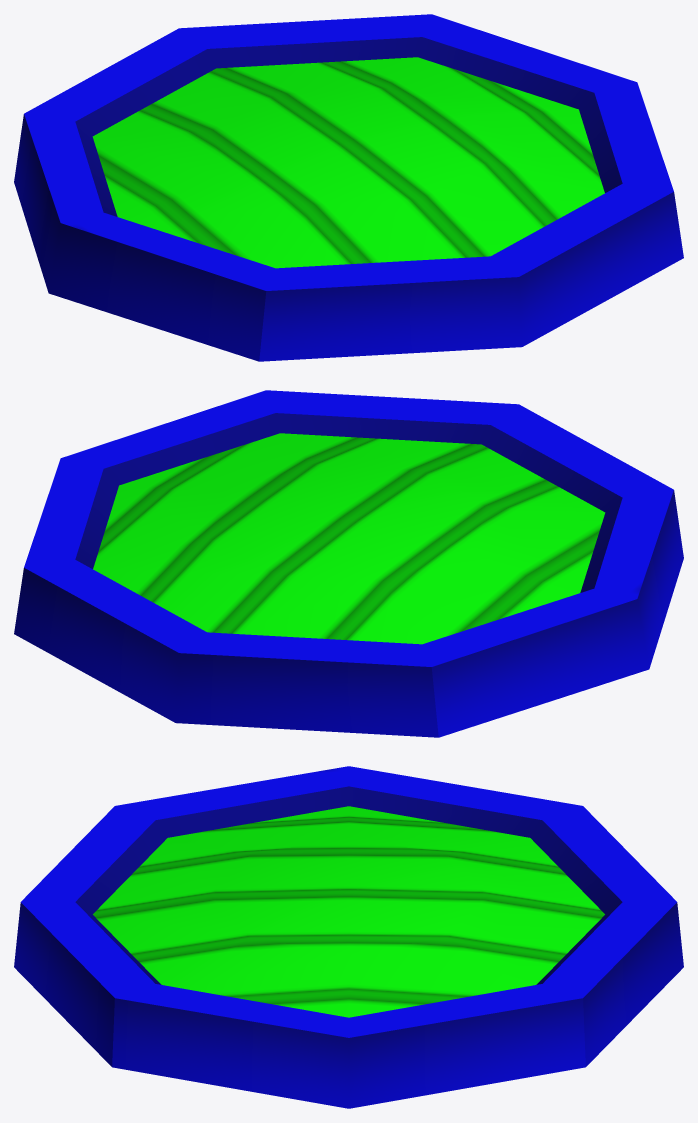
The model's file is ShieldBasic.fbx.
3 views of the same model, one above another, from view 1: azimuth 30°, elevation 25°; view 2: azimuth 150°, elevation 25°; view 3: azimuth 270°, elevation 25° (orthographic). The views are drawn at different scales.
Visible parts, largest first — view 1: ShieldBasic; view 2: ShieldBasic; view 3: ShieldBasic.
Boxes of the visible parts, x1,y1,x2,y2 form: ShieldBasic: (14,14,683,361); ShieldBasic: (14,390,683,737); ShieldBasic: (14,766,683,1108).
Size of the model in its own units: 67.74 by 14.01 by 67.74.
